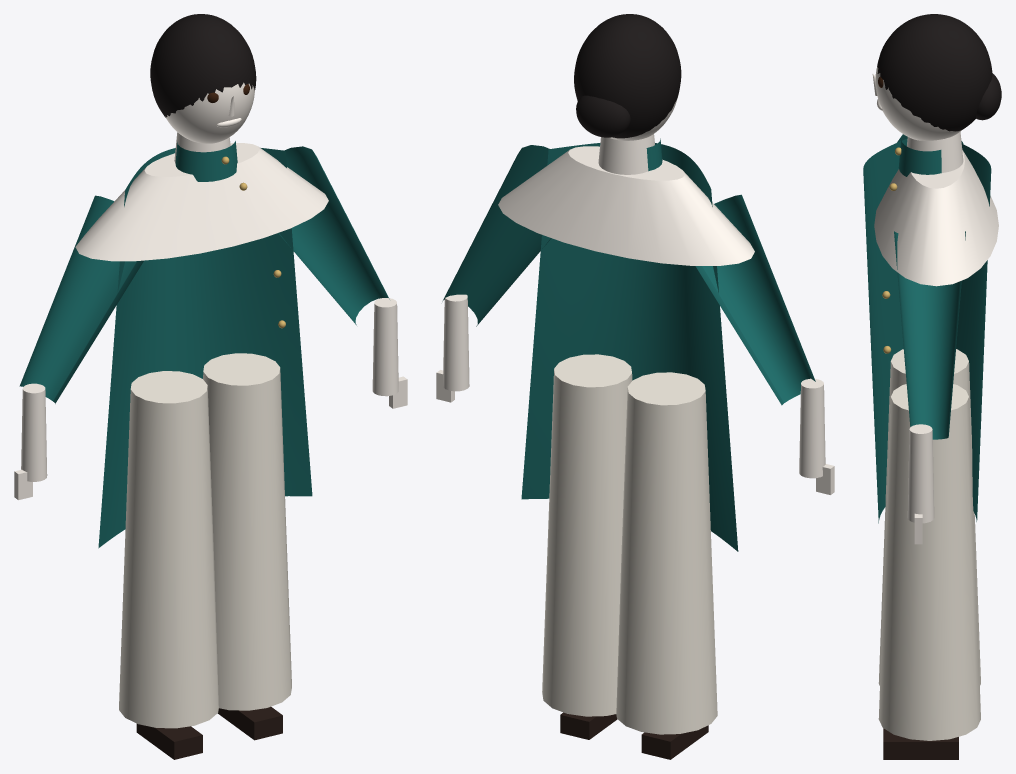
File: v-styler-female-avatar.glb
3 renders of one model, left to right at view 1: azimuth 30°, elevation 25°; view 2: azimuth 150°, elevation 25°; view 3: azimuth 270°, elevation 25°, orthographic.
Parts seen in each view (by area): view 1: PantsMesh, AoNguThanMesh, ShoulderMesh, HairCrown, HeadMesh, object 12, object 10, object 16, object 17; view 2: PantsMesh, AoNguThanMesh, ShoulderMesh, HairCrown, object 10, object 12, NeckMesh, HairBun, object 16, object 17; view 3: PantsMesh, AoNguThanMesh, ShoulderMesh, HairCrown, object 12, HeadMesh, object 17, NeckMesh, HairBun, object 13.
Boxes of the visible parts, bbox=[...] form: PantsMesh: bbox=[119, 353, 291, 728]; AoNguThanMesh: bbox=[19, 141, 389, 548]; ShoulderMesh: bbox=[75, 143, 328, 261]; HairCrown: bbox=[150, 14, 256, 117]; HeadMesh: bbox=[165, 82, 254, 143]; object 12: bbox=[372, 298, 398, 396]; object 10: bbox=[21, 383, 47, 481]; object 16: bbox=[136, 724, 202, 759]; object 17: bbox=[217, 706, 282, 740]; PantsMesh: bbox=[542, 354, 717, 734]; AoNguThanMesh: bbox=[442, 138, 815, 551]; ShoulderMesh: bbox=[498, 146, 754, 265]; HairCrown: bbox=[574, 14, 681, 138]; object 10: bbox=[799, 378, 825, 478]; object 12: bbox=[443, 294, 469, 391]; NeckMesh: bbox=[598, 134, 654, 174]; HairBun: bbox=[576, 95, 630, 137]; object 16: bbox=[641, 725, 708, 759]; object 17: bbox=[560, 712, 617, 739]; PantsMesh: bbox=[878, 349, 980, 740]; AoNguThanMesh: bbox=[863, 134, 991, 523]; ShoulderMesh: bbox=[874, 150, 998, 286]; HairCrown: bbox=[877, 14, 992, 131]; object 12: bbox=[907, 424, 934, 523]; HeadMesh: bbox=[875, 67, 961, 140]; object 17: bbox=[883, 728, 958, 759]; NeckMesh: bbox=[907, 131, 963, 172]; HairBun: bbox=[976, 73, 1001, 120]; object 13: bbox=[914, 513, 922, 544].
Bounding box in the file's own units: 1.02 × 1.77 × 0.3115.
